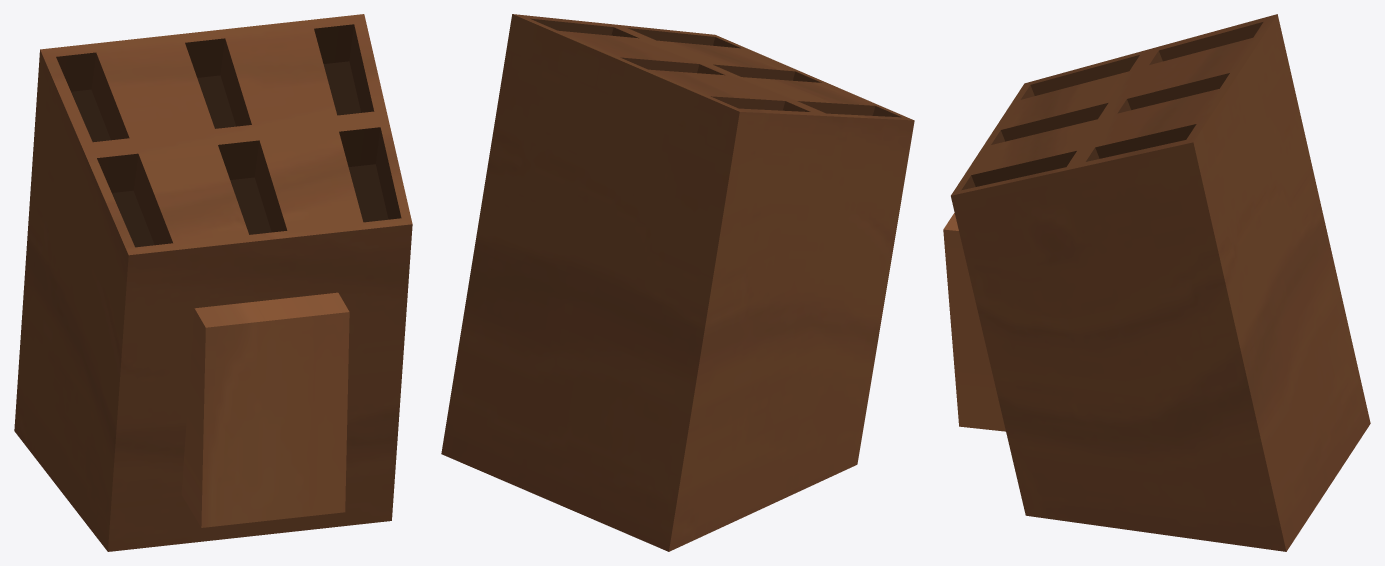
Rendered from KnifeBlock.fbx.
3 renders of one model, left to right at view 1: azimuth 30°, elevation 25°; view 2: azimuth 150°, elevation 25°; view 3: azimuth 270°, elevation 25°, orthographic. The views are drawn at different scales.
Visible parts, largest first — view 1: KnifeBlock; view 2: KnifeBlock; view 3: KnifeBlock.
Boxes of the visible parts, x1,y1,x2,y2 form: KnifeBlock: [14, 14, 412, 551]; KnifeBlock: [441, 14, 914, 551]; KnifeBlock: [943, 14, 1370, 551].
Size of the model in its own units: 41.18 by 48.1 by 46.4.
